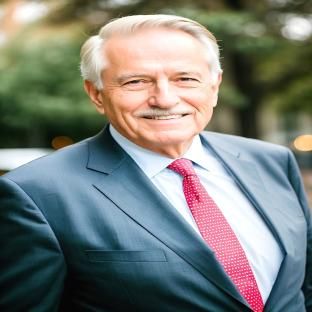Human: (0, 15, 312, 312)
